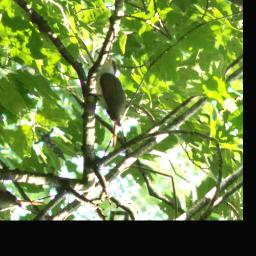Cuckoo: (61, 52, 163, 151)
